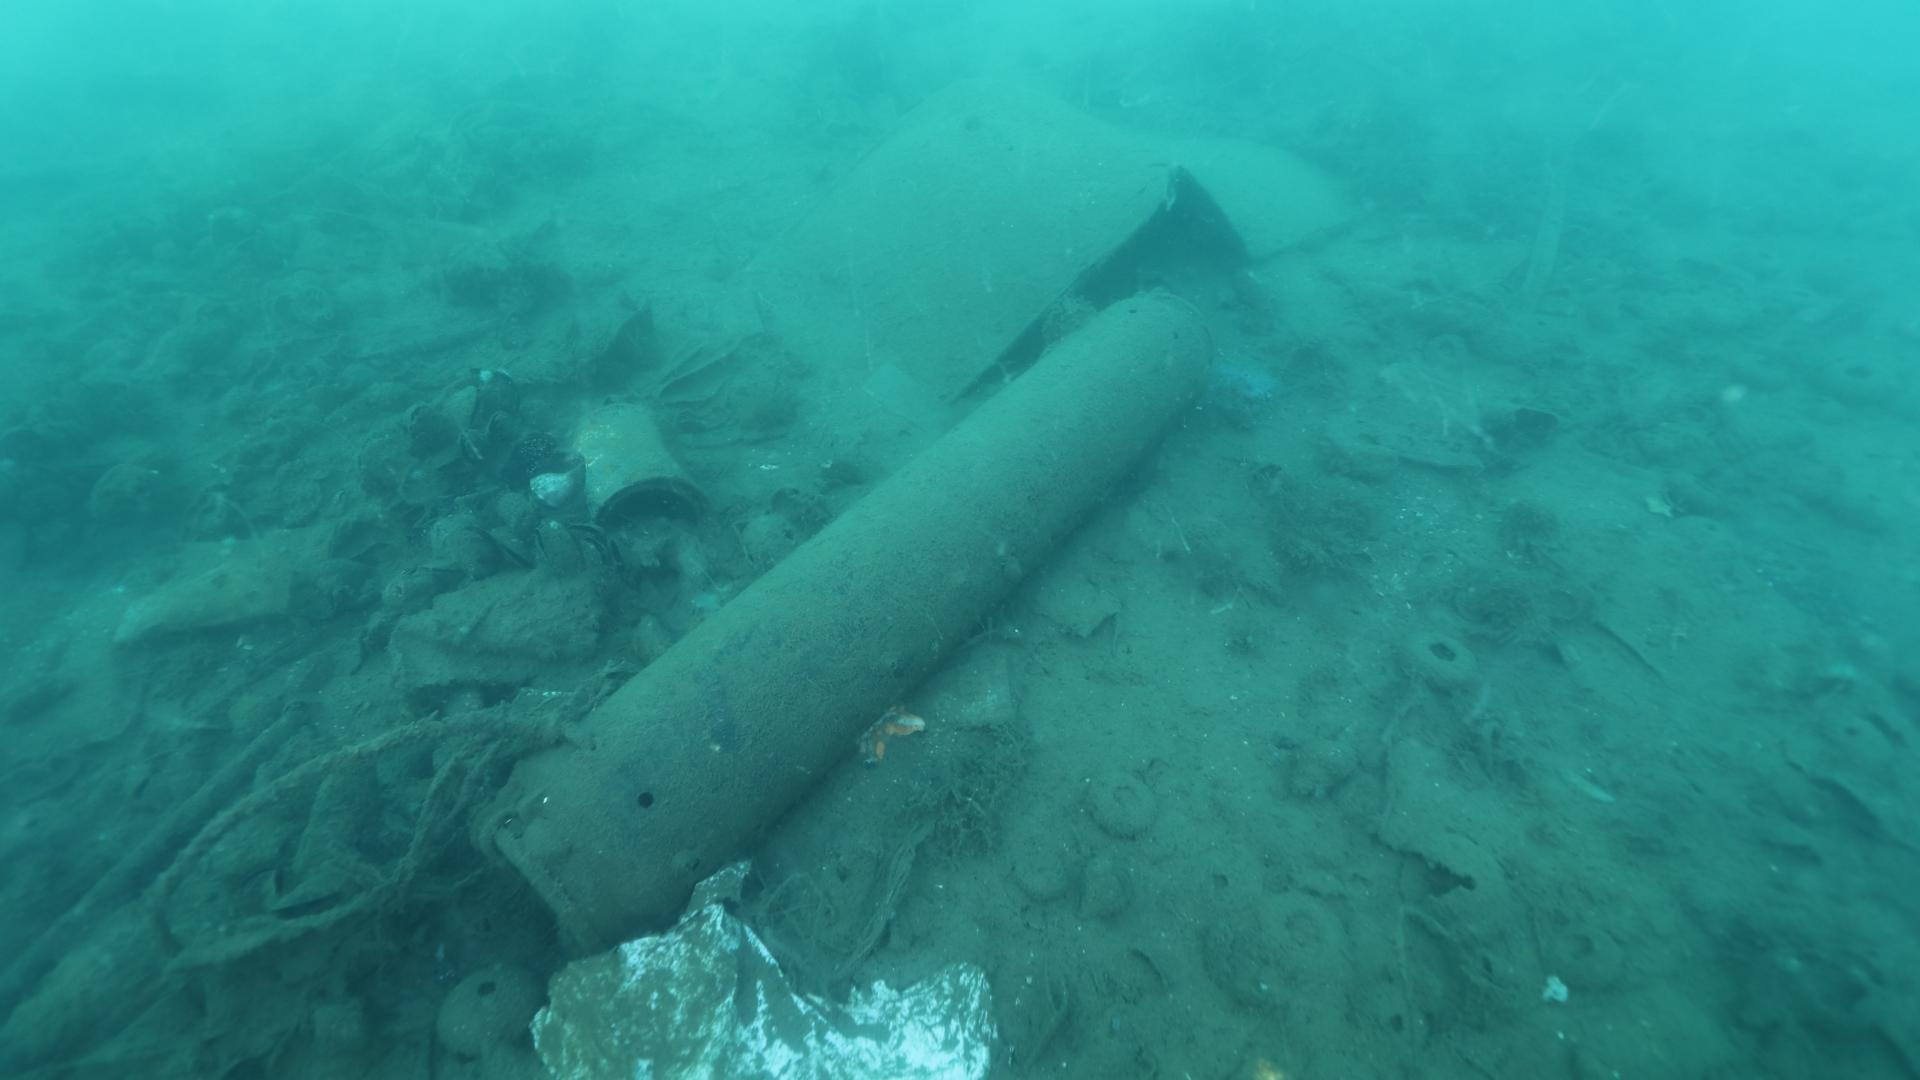eel fish trap: (473, 281, 1218, 957)
rope: (146, 705, 579, 978)
